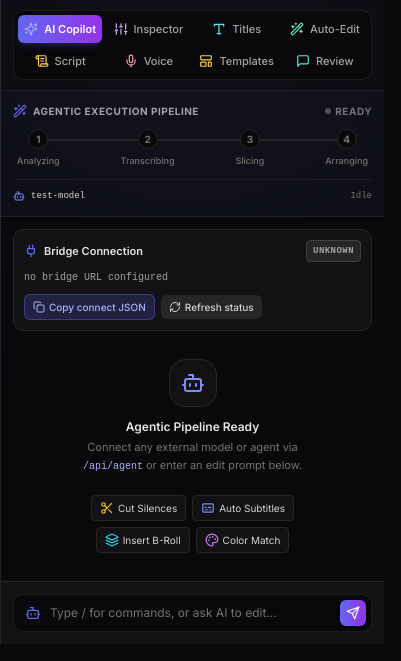
Test case: R22.3: Inspector controls dispatch real commands › empty plans create no diff card
The image size is (401, 661).
Type "flibbertigibbet" into the field with placeholder "Type / for commands, or ask AI to edit...".
click(192, 613); type("flibbertigibbet")  # box x1=13 y1=594 x2=372 y2=632
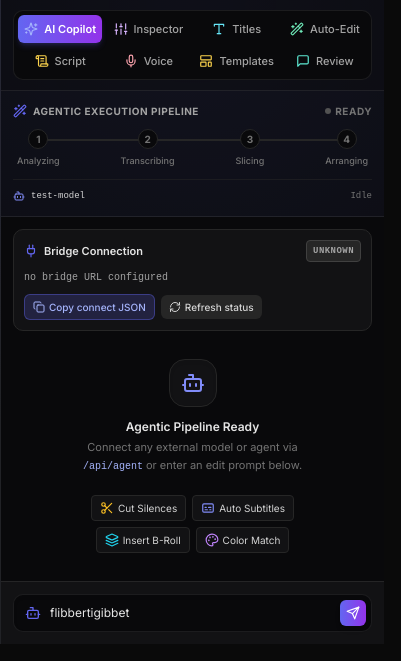
Submit the form from the field with placeholder "Type / for commands, or ask AI to edit...", box x1=13 y1=594 x2=372 y2=632
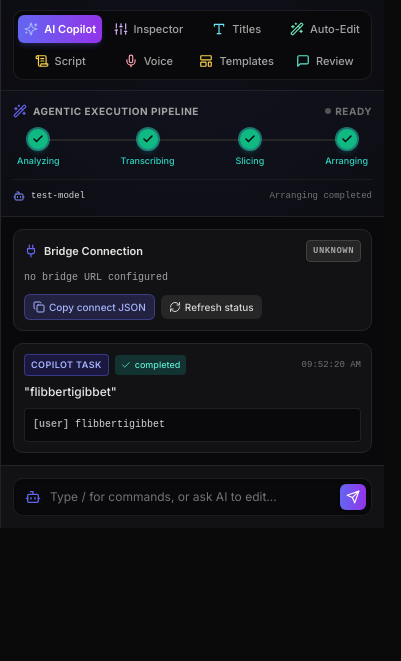
Check: the text "completed" is shown, box x1=135 y1=357 x2=180 y2=373
